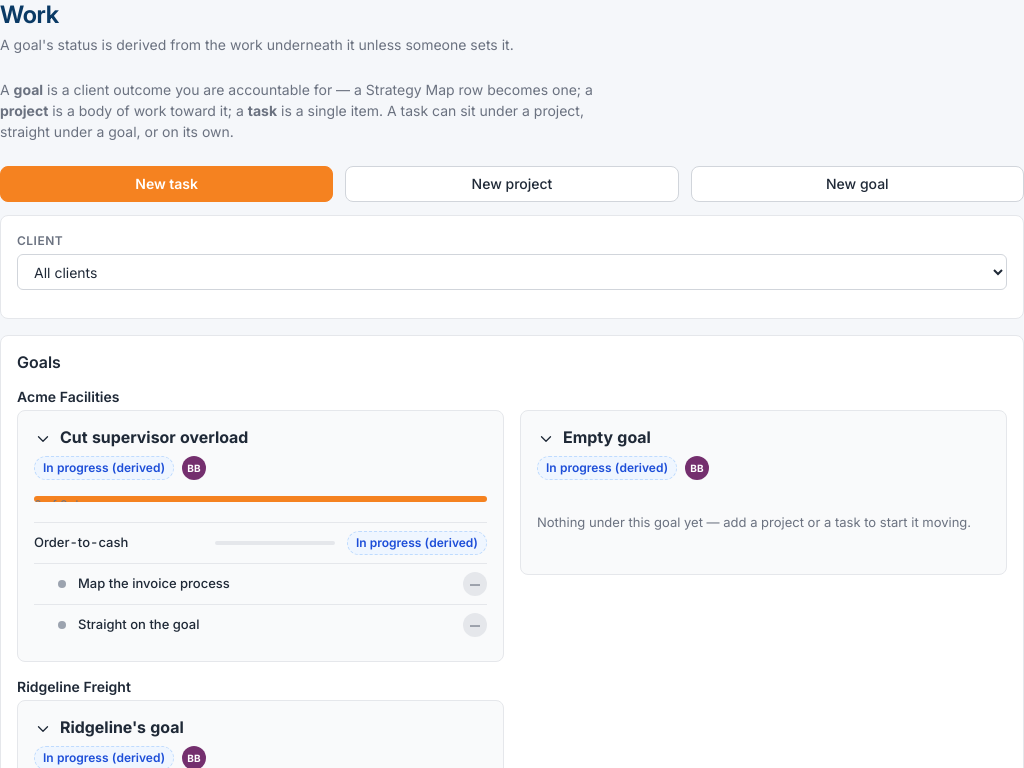
Test case: Work carries a company dimension › defaults to all clients, and narrows all three lists together
Expected: the link "Ridgeline's goal" is shown, [60,717,184,737]
Expected: the link "Cut supervisor overload" is shown, [60,427,248,447]
Select "Ridgeline Freight" in the dropdown named "Filter by client company": x=512, y=272 [17,254,1007,290]
(page scrolled)
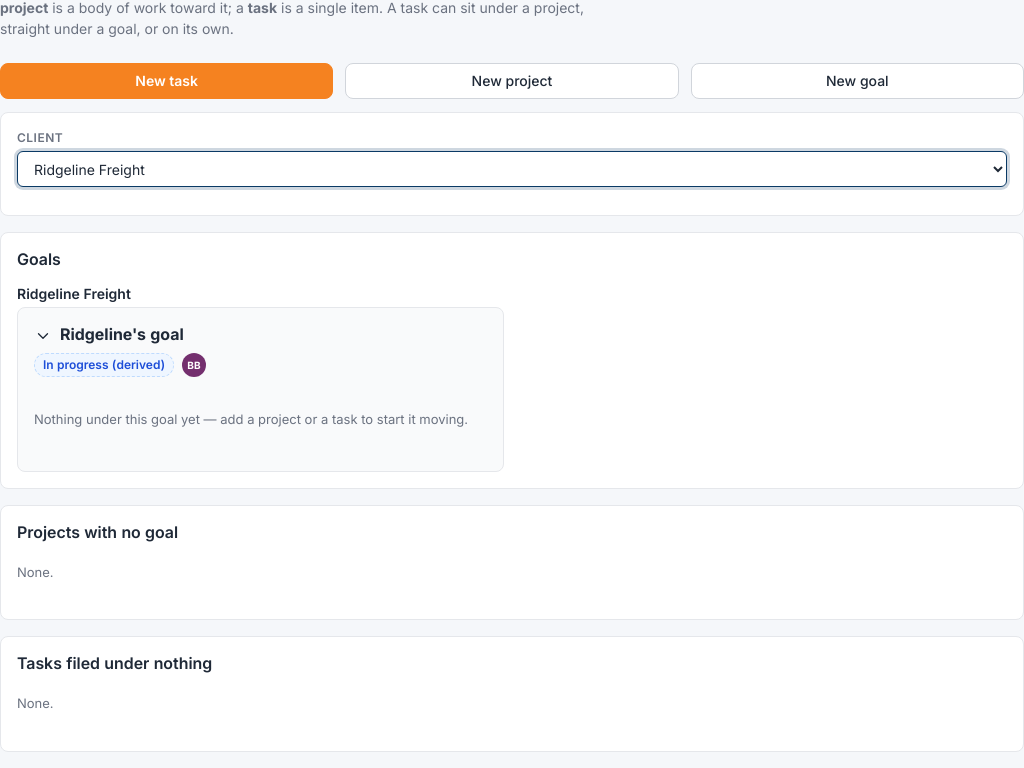
Result: the link "Cut supervisor overload" is gone
Result: the text "None." below "Projects with no goal" is shown at [17,564,54,580]
Result: the text "None." below "Tasks filed under nothing" is shown at [17,695,54,711]
